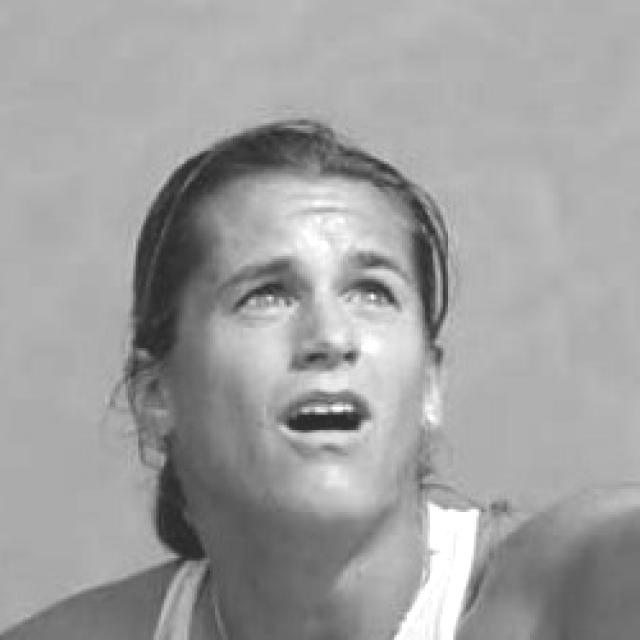real: (154, 154, 430, 544), (199, 261, 414, 332)
